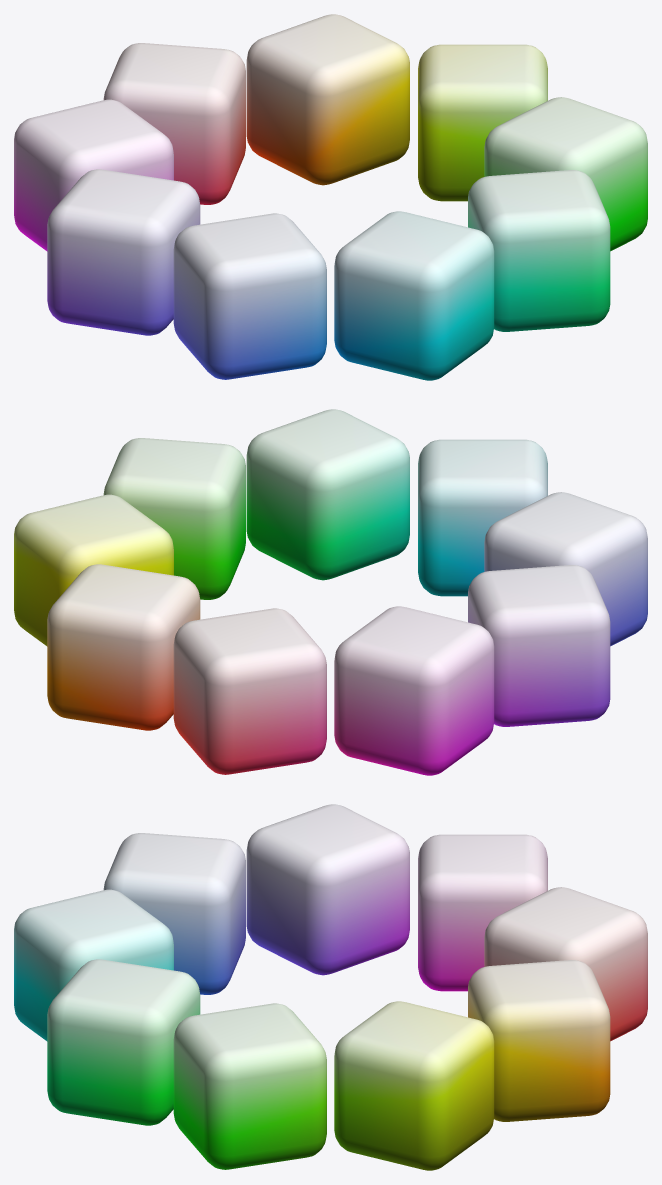
File: boxesExterior.obj
3 views of the same model, one above another, from view 1: azimuth 30°, elevation 25°; view 2: azimuth 150°, elevation 25°; view 3: azimuth 270°, elevation 25° (orthographic).
Visible parts, largest first — view 1: ChamferBox008, ChamferBox004, ChamferBox003, ChamferBox002, ChamferBox005, ChamferBox009, ChamferBox007, ChamferBox006, ChamferBox001; view 2: ChamferBox005, ChamferBox001, ChamferBox009, ChamferBox008, ChamferBox002, ChamferBox006, ChamferBox004, ChamferBox003, ChamferBox007; view 3: ChamferBox002, ChamferBox007, ChamferBox006, ChamferBox005, ChamferBox008, ChamferBox003, ChamferBox001, ChamferBox009, ChamferBox004.
Boxes of the visible parts, <box> form: ChamferBox008: <box>246,14,409,185</box>; ChamferBox004: <box>334,211,494,380</box>; ChamferBox003: <box>173,213,326,379</box>; ChamferBox002: <box>47,169,200,335</box>; ChamferBox005: <box>468,170,610,331</box>; ChamferBox009: <box>103,43,245,204</box>; ChamferBox007: <box>418,44,547,201</box>; ChamferBox006: <box>484,97,647,251</box>; ChamferBox001: <box>14,99,173,251</box>; ChamferBox005: <box>246,409,409,580</box>; ChamferBox001: <box>334,606,494,775</box>; ChamferBox009: <box>173,608,326,774</box>; ChamferBox008: <box>47,564,200,730</box>; ChamferBox002: <box>468,565,610,726</box>; ChamferBox006: <box>103,438,245,599</box>; ChamferBox004: <box>418,439,547,596</box>; ChamferBox003: <box>484,492,647,646</box>; ChamferBox007: <box>14,494,173,646</box>; ChamferBox002: <box>246,804,409,975</box>; ChamferBox007: <box>334,1001,494,1170</box>; ChamferBox006: <box>173,1003,326,1169</box>; ChamferBox005: <box>47,959,200,1125</box>; ChamferBox008: <box>468,960,610,1121</box>; ChamferBox003: <box>103,833,245,994</box>; ChamferBox001: <box>418,834,547,991</box>; ChamferBox009: <box>484,887,647,1041</box>; ChamferBox004: <box>14,889,173,1041</box>.
Size of the model in its own units: 4.83 by 1 by 4.89.
